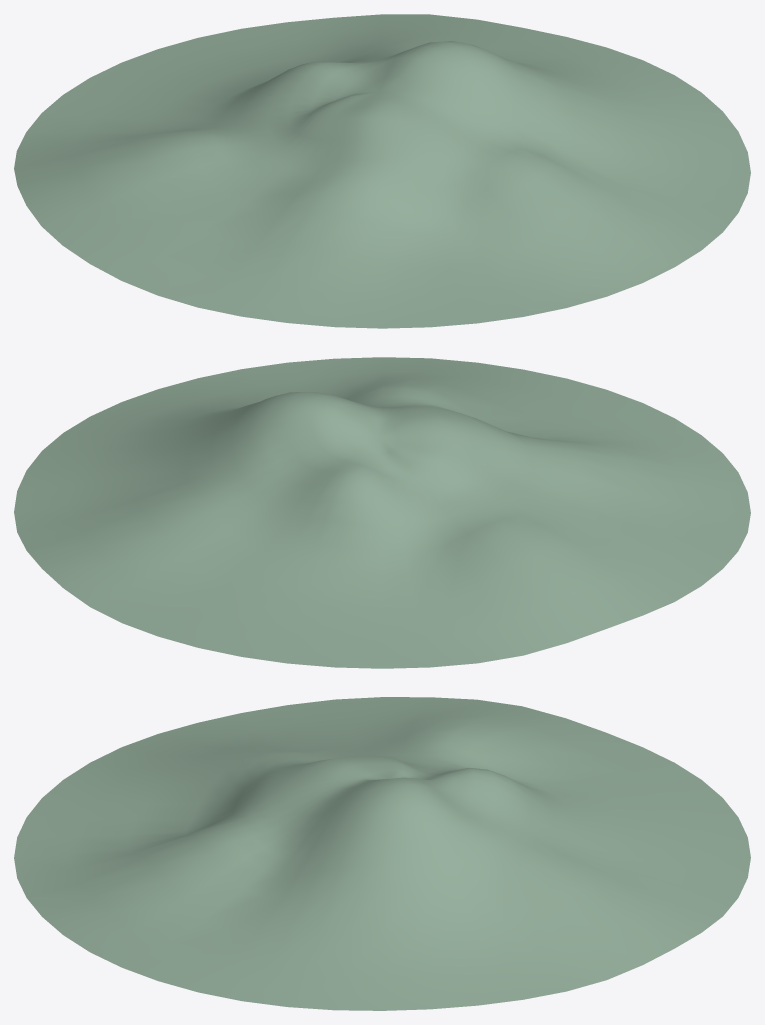
The model's file is entropy_ground_01.fbx.
3 views of the same model, one above another, from view 1: azimuth 30°, elevation 25°; view 2: azimuth 150°, elevation 25°; view 3: azimuth 270°, elevation 25° (orthographic).
Parts seen in each view (by area): view 1: entropy_ground_01:Sphere; view 2: entropy_ground_01:Sphere; view 3: entropy_ground_01:Sphere.
Part boxes in pixels (box(x1,y1,x2,y2)): entropy_ground_01:Sphere: box(14, 14, 750, 328); entropy_ground_01:Sphere: box(14, 357, 750, 668); entropy_ground_01:Sphere: box(14, 697, 750, 1010).
Size of the model in its own units: 49.33 by 7.57 by 49.33.
